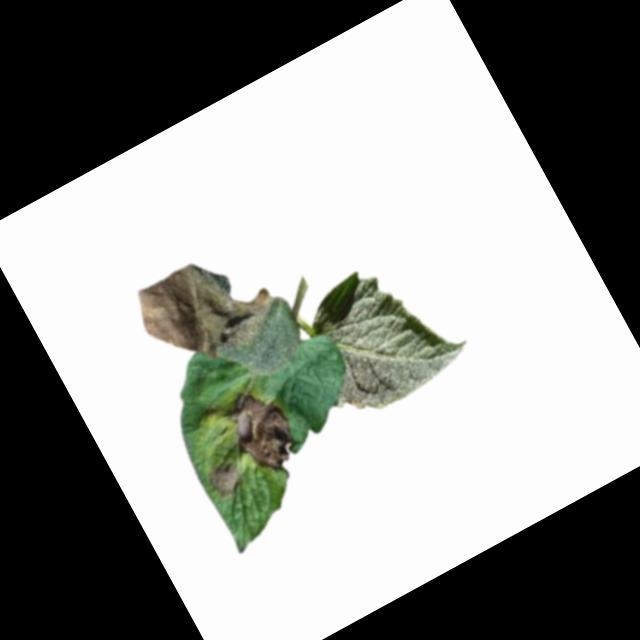Late_blight: (117, 230, 312, 421), (212, 376, 308, 485), (202, 457, 248, 503)
healthy: (280, 239, 477, 430)
